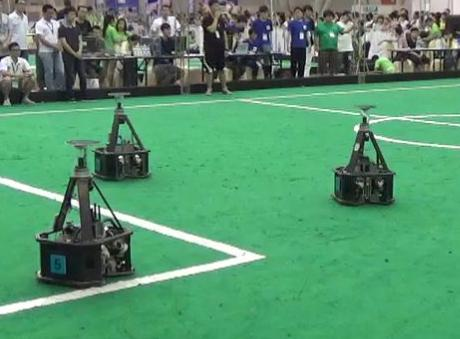robot: (33, 138, 138, 291), (328, 100, 398, 207), (92, 88, 153, 183)
